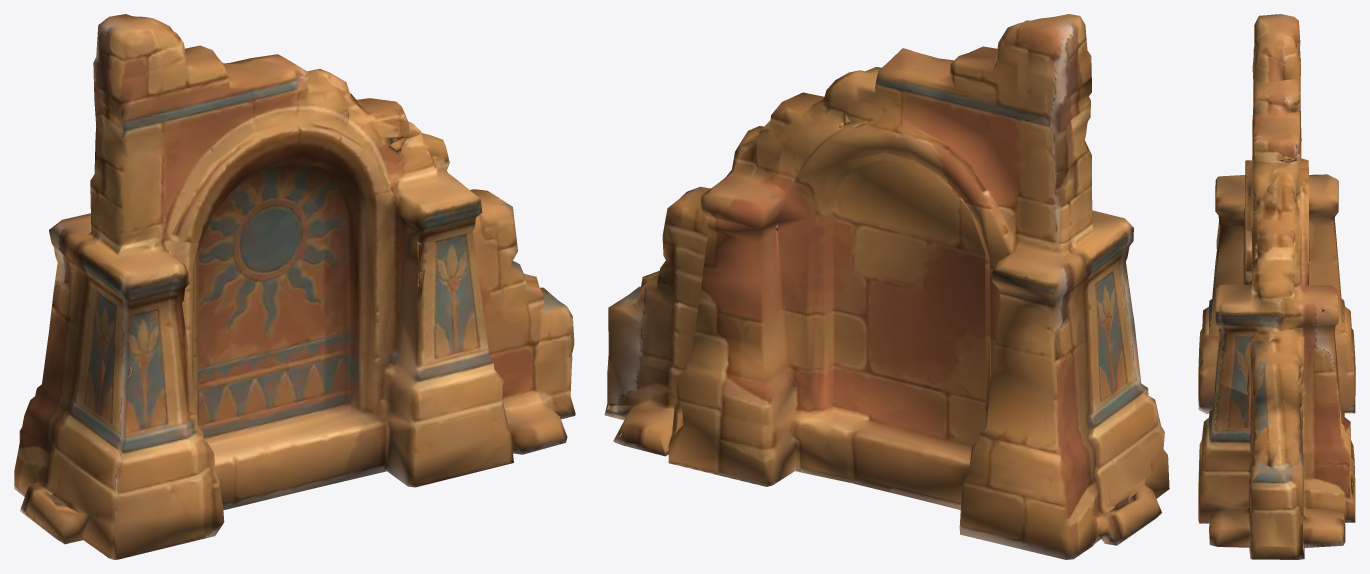
File: SM_Env_DesertRuin.glb
The picture shows the model from 3 angles, left to right: view 1: azimuth 30°, elevation 25°; view 2: azimuth 150°, elevation 25°; view 3: azimuth 270°, elevation 25°; orthographic projection. The views are drawn at different scales.
Parts seen in each view (by area): view 1: SM_Env_DesertRuin_LOD0; view 2: SM_Env_DesertRuin_LOD0; view 3: SM_Env_DesertRuin_LOD0.
Boxes of the visible parts, x1,y1,x2,y2 form: SM_Env_DesertRuin_LOD0: [14, 14, 575, 559]; SM_Env_DesertRuin_LOD0: [604, 14, 1169, 559]; SM_Env_DesertRuin_LOD0: [1198, 14, 1355, 559].
Size of the model in its own units: 4.82 by 4.31 by 1.63.
1 material, 1 textured.
